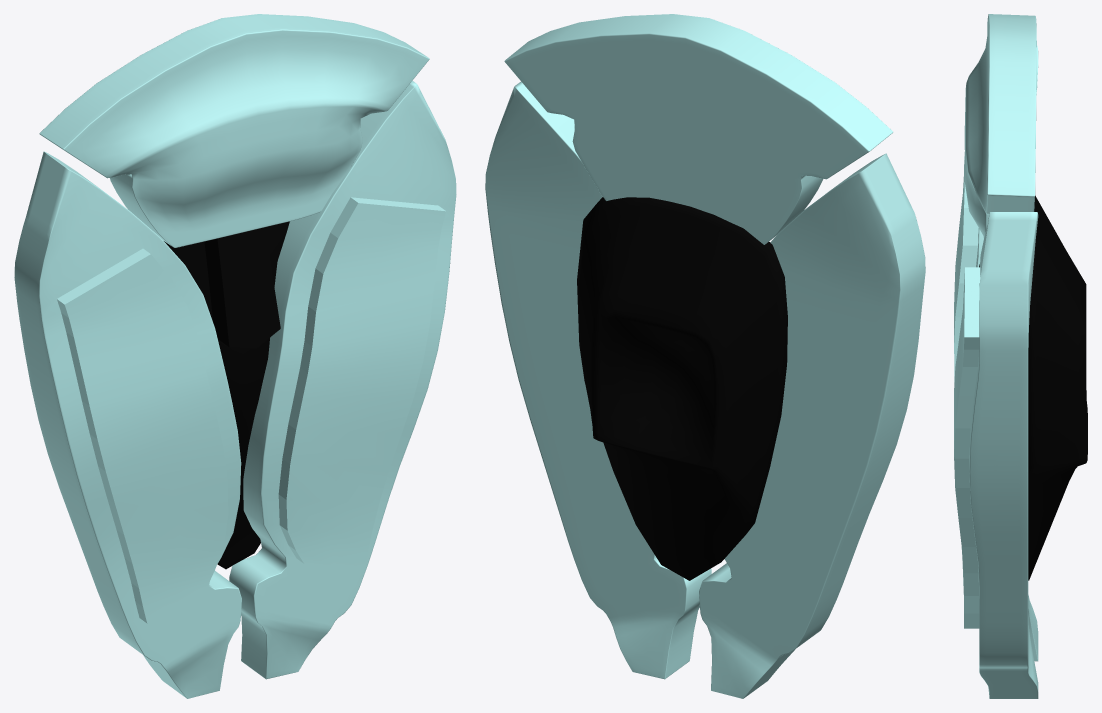
File: shield.fbx
3 views of the same model, side by side, from view 1: azimuth 30°, elevation 25°; view 2: azimuth 150°, elevation 25°; view 3: azimuth 270°, elevation 25° (orthographic). The views are drawn at different scales.
Visible parts, largest first — view 1: polySurface3; view 2: polySurface3; view 3: polySurface3.
Boxes of the visible parts, x1,y1,x2,y2 form: polySurface3: (14,14,456,698); polySurface3: (485,14,925,698); polySurface3: (954,14,1087,698).
Size of the model in its own units: 3.4 by 5.06 by 0.9679.
